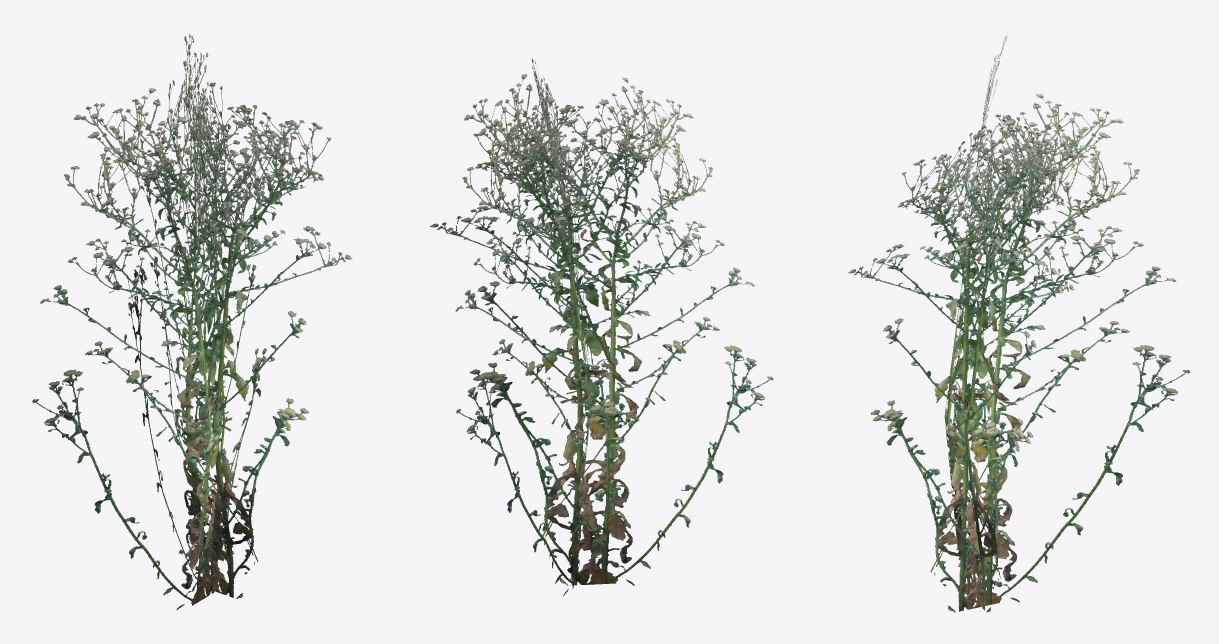
File: Grass_05_HDRP.fbx
3 renders of one model, left to right at view 1: azimuth 30°, elevation 25°; view 2: azimuth 150°, elevation 25°; view 3: azimuth 270°, elevation 25°, orthographic. The views are drawn at different scales.
Visible parts, largest first — view 1: Grass_05_HDRP; view 2: Grass_05_HDRP; view 3: Grass_05_HDRP.
Boxes of the visible parts, x1,y1,x2,y2 form: Grass_05_HDRP: (32, 34, 352, 609); Grass_05_HDRP: (430, 58, 773, 595); Grass_05_HDRP: (848, 35, 1189, 612).
Bounding box in the file's own units: 75.58 × 118 × 77.64.
